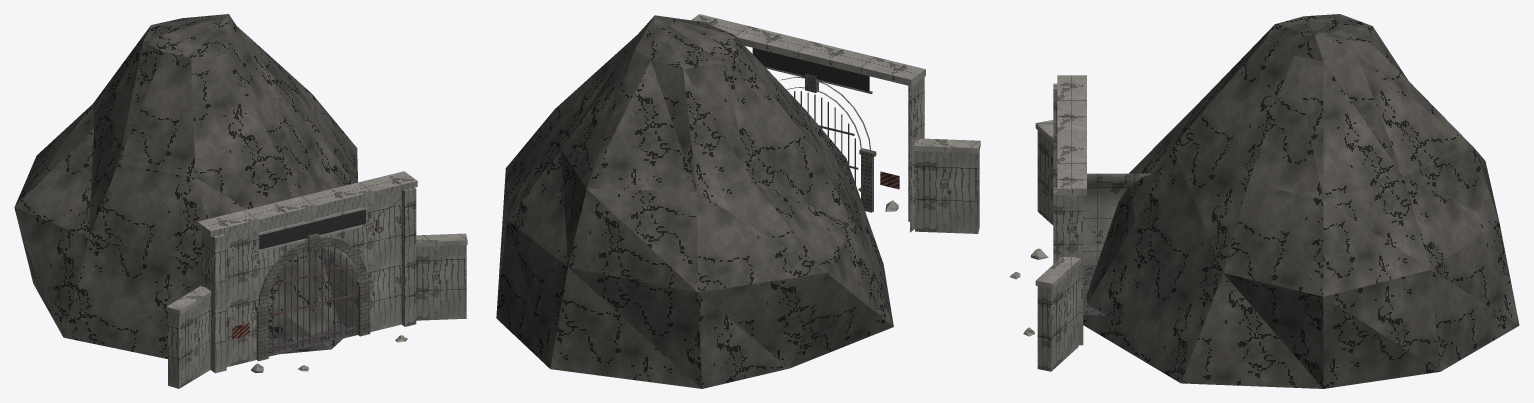
File: tunnel_gate.glb
The picture shows the model from 3 angles, left to right: view 1: azimuth 30°, elevation 25°; view 2: azimuth 150°, elevation 25°; view 3: azimuth 270°, elevation 25°; orthographic projection. The views are drawn at different scales.
Visible parts, largest first — view 1: detail, shell-col; view 2: detail, shell-col; view 3: detail, shell-col.
Part boxes in pixels (x1,y1,x2,y2): detail: (14, 14, 467, 388); shell-col: (202, 191, 401, 370); detail: (496, 14, 980, 388); shell-col: (910, 80, 920, 232); detail: (1009, 14, 1519, 388); shell-col: (1061, 173, 1151, 345).
Size of what is drawn, in the model's own units: 22.55 by 17.11 by 27.42.
13 materials, 13 textured.
